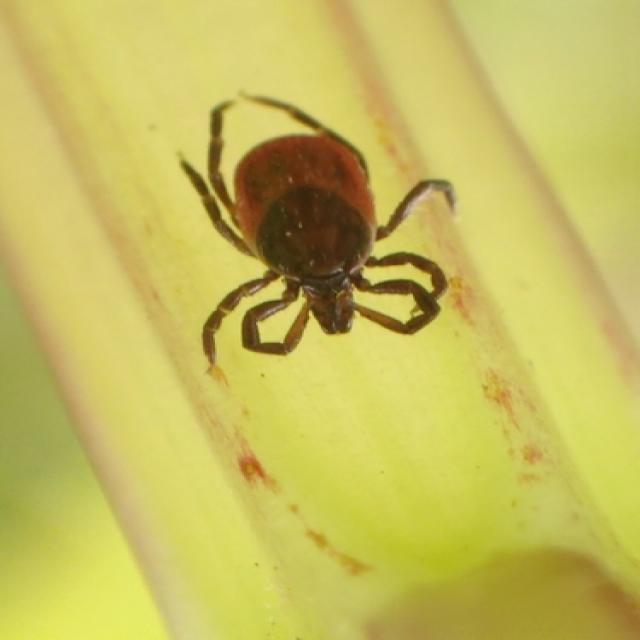Ixodes Ricinus-F: (183, 97, 454, 353)
